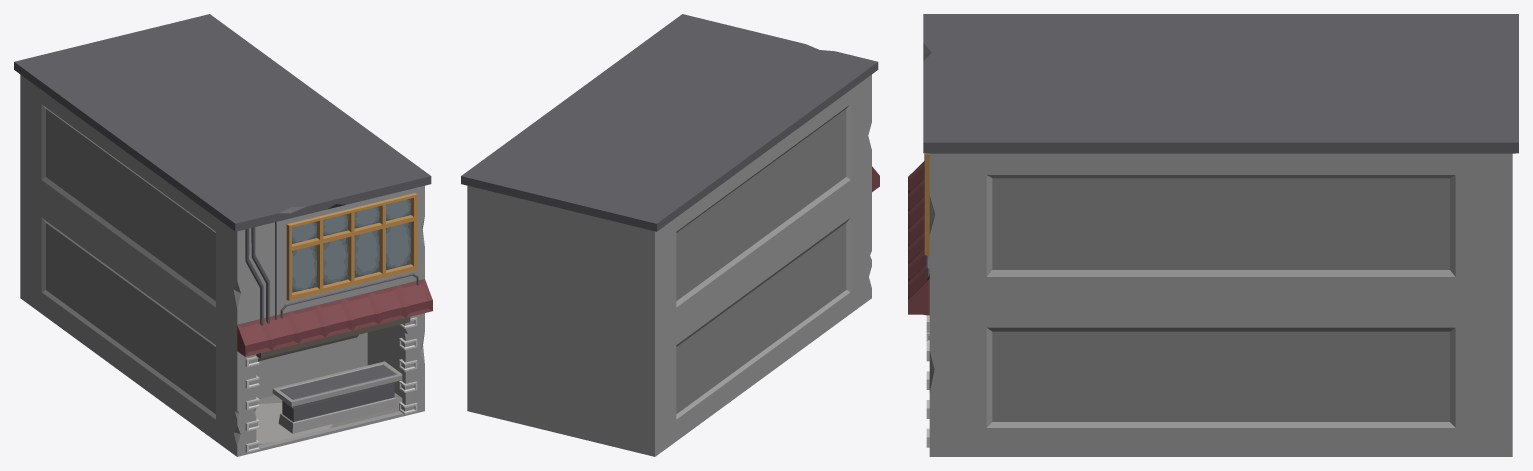
The model's file is chopshop.glb.
The picture shows the model from 3 angles, left to right: view 1: azimuth 30°, elevation 25°; view 2: azimuth 150°, elevation 25°; view 3: azimuth 270°, elevation 25°; orthographic projection. The views are drawn at different scales.
Visible parts, largest first — view 1: SM_Bld_Chopshop_01; view 2: SM_Bld_Chopshop_01; view 3: SM_Bld_Chopshop_01.
Part boxes in pixels (x1,y1,x2,y2): SM_Bld_Chopshop_01: [14, 14, 432, 456]; SM_Bld_Chopshop_01: [461, 14, 879, 456]; SM_Bld_Chopshop_01: [908, 14, 1518, 456].
Size of the model in its own units: 5.21 by 6 by 10.48.
1 material, 1 textured.
